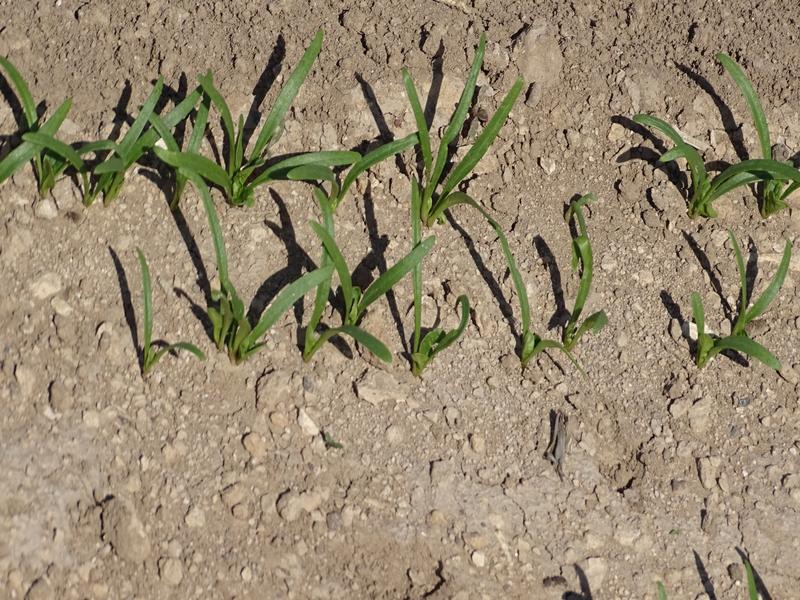Espinaca: (1, 44, 529, 204), (93, 212, 471, 365), (640, 47, 800, 215), (500, 210, 605, 354), (678, 241, 788, 373)
